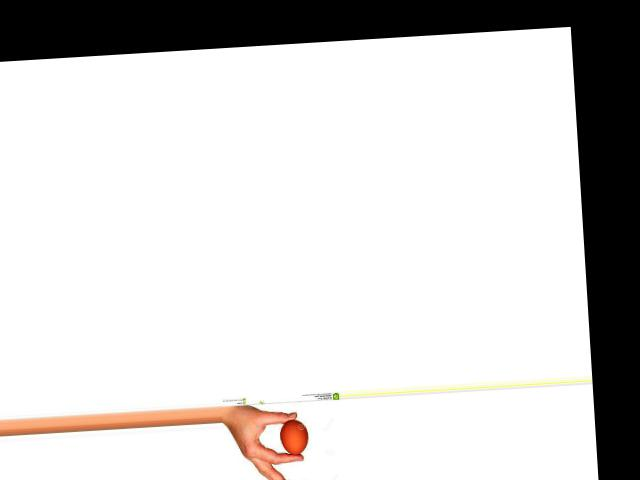egg: (278, 418, 309, 455)
